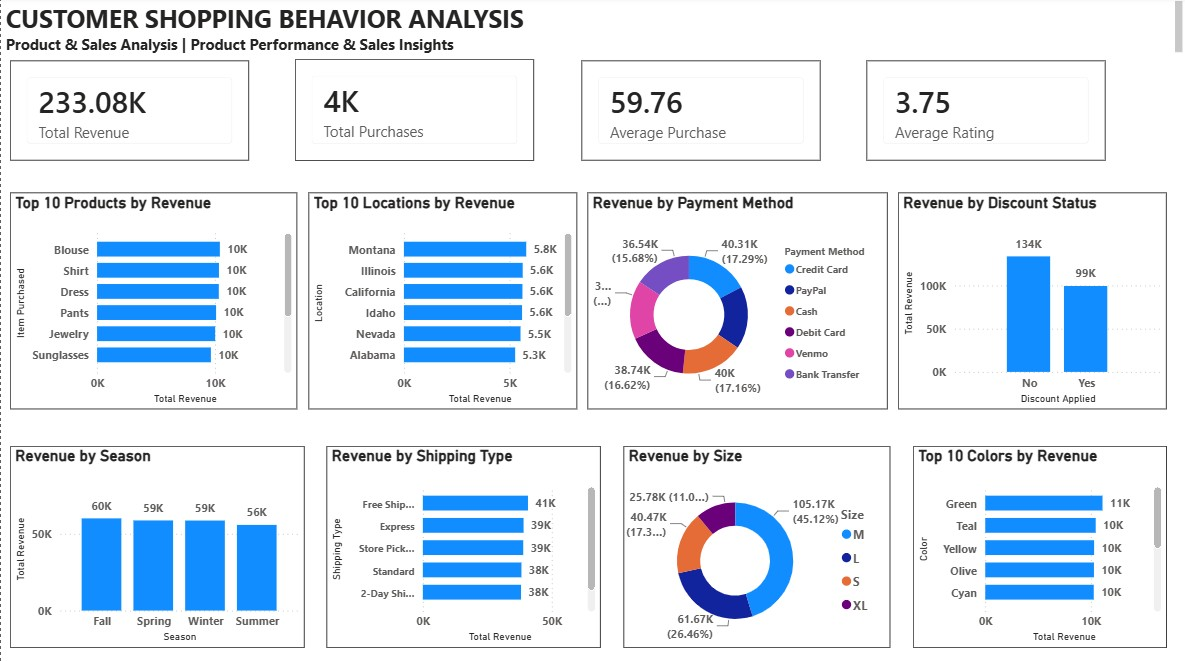

The dashboard page shown, as its layout file describes it:
{"tool":"powerbi","page":{"name":"Product & Sales Analysis","canvas":[1280,720],"ordinal":2},"visuals":[{"type":"cardVisual","fields":{"Data":["Customer Shopping.Total Revenue"]},"box":[10,70,258,108],"z":0},{"type":"cardVisual","fields":{"Data":["Customer Shopping.Total Purchases"]},"box":[318,68,258,110],"z":1000},{"type":"cardVisual","fields":{"Data":["Customer Shopping.Average Purchase"]},"box":[626,70,258,108],"z":2000},{"type":"cardVisual","fields":{"Data":["Customer Shopping.Average Rating"]},"box":[934,70,258,108],"z":3000},{"type":"clusteredBarChart","title":"Top 10 Products by Revenue","fields":{"Category":["Customer Shopping.Item Purchased"],"Y":["Customer Shopping.Total Revenue"]},"box":[10,212,310,234],"z":4000},{"type":"clusteredBarChart","title":"Top 10 Locations by Revenue","fields":{"Category":["Customer Shopping.Location"],"Y":["Customer Shopping.Total Revenue"]},"box":[331.3,212,290,234],"z":5000},{"type":"donutChart","title":"Revenue by Payment Method","fields":{"Category":["Customer Shopping.Payment Method"],"Y":["Customer Shopping.Total Revenue"]},"box":[632.7,212,324,234],"z":6000},{"type":"clusteredColumnChart","title":"Revenue by Discount Status","fields":{"Category":["Customer Shopping.Discount Applied"],"Y":["Customer Shopping.Total Revenue"]},"box":[968,212,290,234],"z":7000},{"type":"clusteredColumnChart","title":"Revenue by Season","fields":{"Category":["Customer Shopping.Season"],"Y":["Customer Shopping.Total Revenue"]},"box":[10,486,318,218],"z":8000},{"type":"clusteredBarChart","title":"Revenue by Shipping Type","fields":{"Category":["Customer Shopping.Shipping Type"],"Y":["Customer Shopping.Total Revenue"]},"box":[352,486,296,218],"z":9000},{"type":"donutChart","title":"Revenue by Size","fields":{"Category":["Customer Shopping.Size"],"Y":["Customer Shopping.Total Revenue"]},"box":[672,486,288,218],"z":10000},{"type":"clusteredBarChart","title":"Top 10 Colors by Revenue","fields":{"Category":["Customer Shopping.Color"],"Y":["Customer Shopping.Total Revenue"]},"box":[984,486,274,218],"z":11000},{"type":"textbox","box":[0,0,1280,66],"z":12000}]}

Visuals, with their boxes in screenshot pixels (x1, y1, x2, y2), scaled from the page's 1280x720 canvas onto the 1185x661 screenshot:
cardVisual - Customer Shopping.Total Revenue: Rect(9, 64, 248, 163)
cardVisual - Customer Shopping.Total Purchases: Rect(294, 62, 533, 163)
cardVisual - Customer Shopping.Average Purchase: Rect(580, 64, 818, 163)
cardVisual - Customer Shopping.Average Rating: Rect(865, 64, 1104, 163)
"Top 10 Products by Revenue" clusteredBarChart: Rect(9, 195, 296, 409)
"Top 10 Locations by Revenue" clusteredBarChart: Rect(307, 195, 575, 409)
"Revenue by Payment Method" donutChart: Rect(586, 195, 886, 409)
"Revenue by Discount Status" clusteredColumnChart: Rect(896, 195, 1165, 409)
"Revenue by Season" clusteredColumnChart: Rect(9, 446, 304, 646)
"Revenue by Shipping Type" clusteredBarChart: Rect(326, 446, 600, 646)
"Revenue by Size" donutChart: Rect(622, 446, 889, 646)
"Top 10 Colors by Revenue" clusteredBarChart: Rect(911, 446, 1165, 646)
textbox: Rect(0, 0, 1184, 61)
